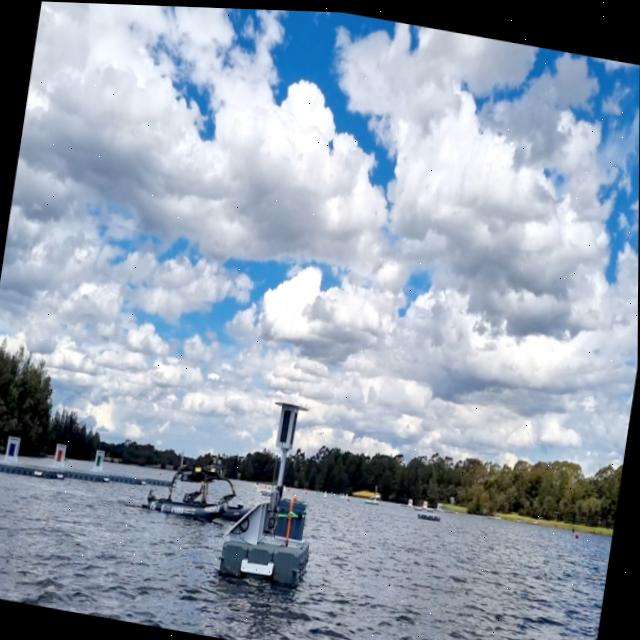led: (278, 405, 295, 444)
